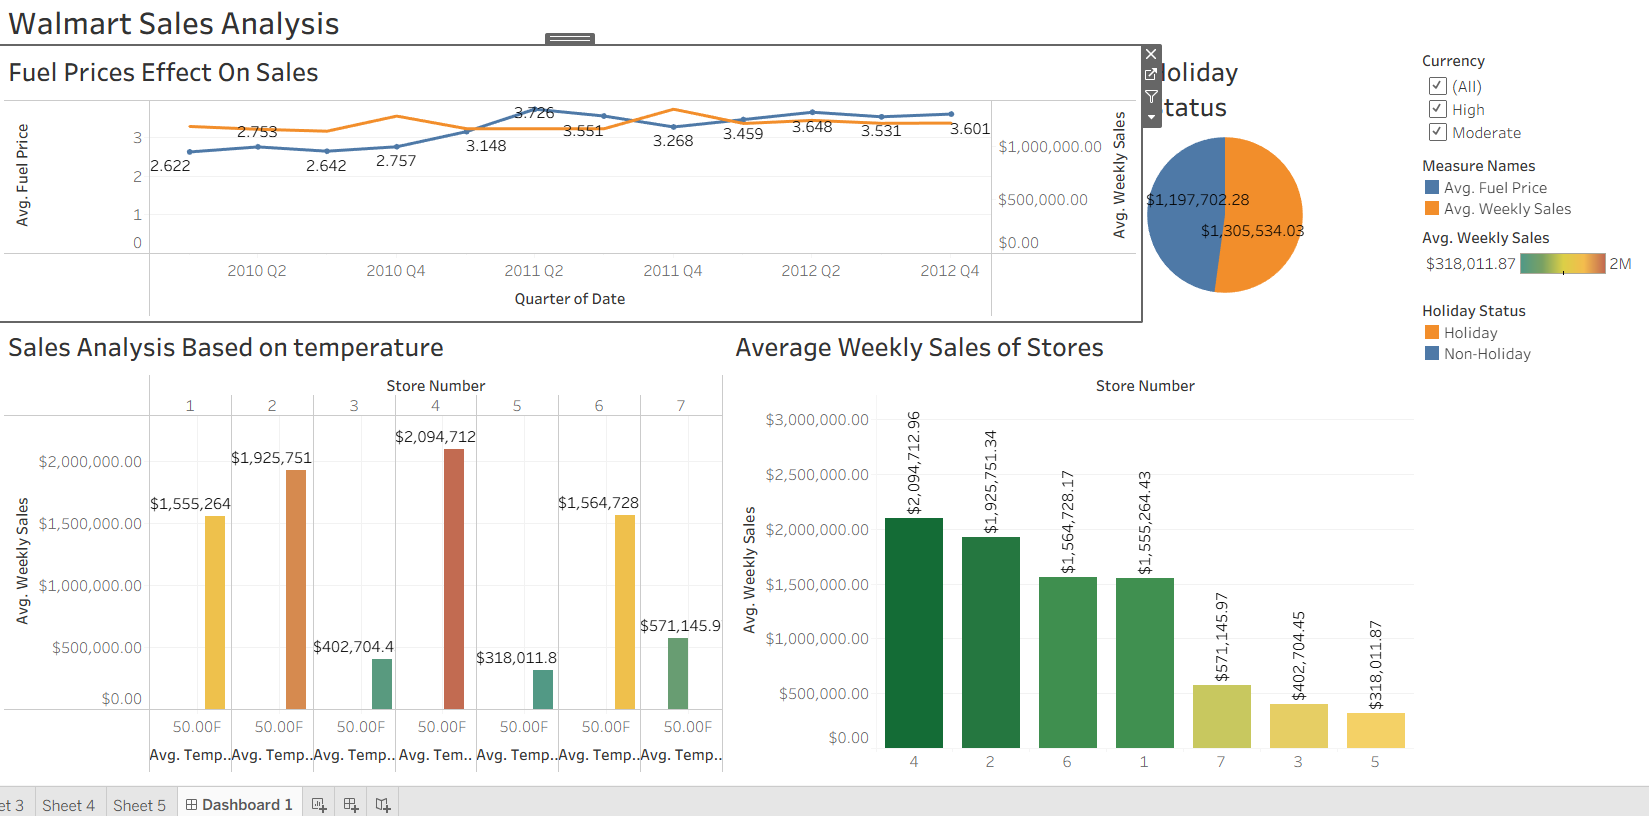

What the dashboard file says about the page in this screenshot:
{"tool":"tableau","page":{"name":"Dashboard 1","canvas":[1000,1000],"units":"permille","ordinal":0},"visuals":[{"type":"title","box":[4.8,10.1,990.3,61.6]},{"type":"worksheet","title":"Sheet 5","mark":"Line","rows":["Fuel_Price","Weekly_Sales"],"cols":["Date"],"box":[4.8,71.6,688.4,344.9]},{"type":"worksheet","title":"Sheet 3","mark":"Pie","box":[693.2,71.6,167.4,344.9]},{"type":"filter","title":"Sheet 5","param":"[federated.0xxp59y05dqka41ahiags1mhv3ar].[none:Calculation_1615666397654810629:n","box":[860.6,71.6,134.6,131.9]},{"type":"legend","title":"Sheet 5","param":"[federated.0xxp59y05dqka41ahiags1mhv3ar].[:Measure Names]","box":[860.6,203.5,134.6,90.5]},{"type":"legend","title":"Sheet 4","param":"[federated.0xxp59y05dqka41ahiags1mhv3ar].[avg:Weekly_Sales:qk]","box":[860.6,294,134.6,91.7]},{"type":"legend","title":"Sheet 3","param":"[federated.0xxp59y05dqka41ahiags1mhv3ar].[none:Calculation_1615666397643476992:n","box":[860.6,385.7,134.6,90.5]},{"type":"worksheet","title":"Sheet 4","mark":"Bar","rows":["Weekly_Sales"],"cols":["Store_Number","Temperature"],"box":[4.8,416.6,438.7,573.4]},{"type":"worksheet","title":"Sheet 1","mark":"Automatic","rows":["Weekly_Sales"],"cols":["Store_Number"],"box":[443.6,416.6,417,573.4]}]}

Visuals, with their boxes on the dashboard's canvas, which has no fixed pixel size, in thousandths of its width and height (x1, y1, x2, y2). These are canvas units, not pixel positions in the 1649x816 screenshot, which may show the page scaled, cropped or inside an application window:
title: [x1=5, y1=10, x2=995, y2=72]
"Sheet 5" worksheet (Line marks): [x1=5, y1=72, x2=693, y2=416]
"Sheet 3" worksheet (Pie marks): [x1=693, y1=72, x2=861, y2=416]
"Sheet 5" filter: [x1=861, y1=72, x2=995, y2=204]
"Sheet 5" legend: [x1=861, y1=204, x2=995, y2=294]
"Sheet 4" legend: [x1=861, y1=294, x2=995, y2=386]
"Sheet 3" legend: [x1=861, y1=386, x2=995, y2=476]
"Sheet 4" worksheet (Bar marks): [x1=5, y1=417, x2=444, y2=990]
"Sheet 1" worksheet: [x1=444, y1=417, x2=861, y2=990]
